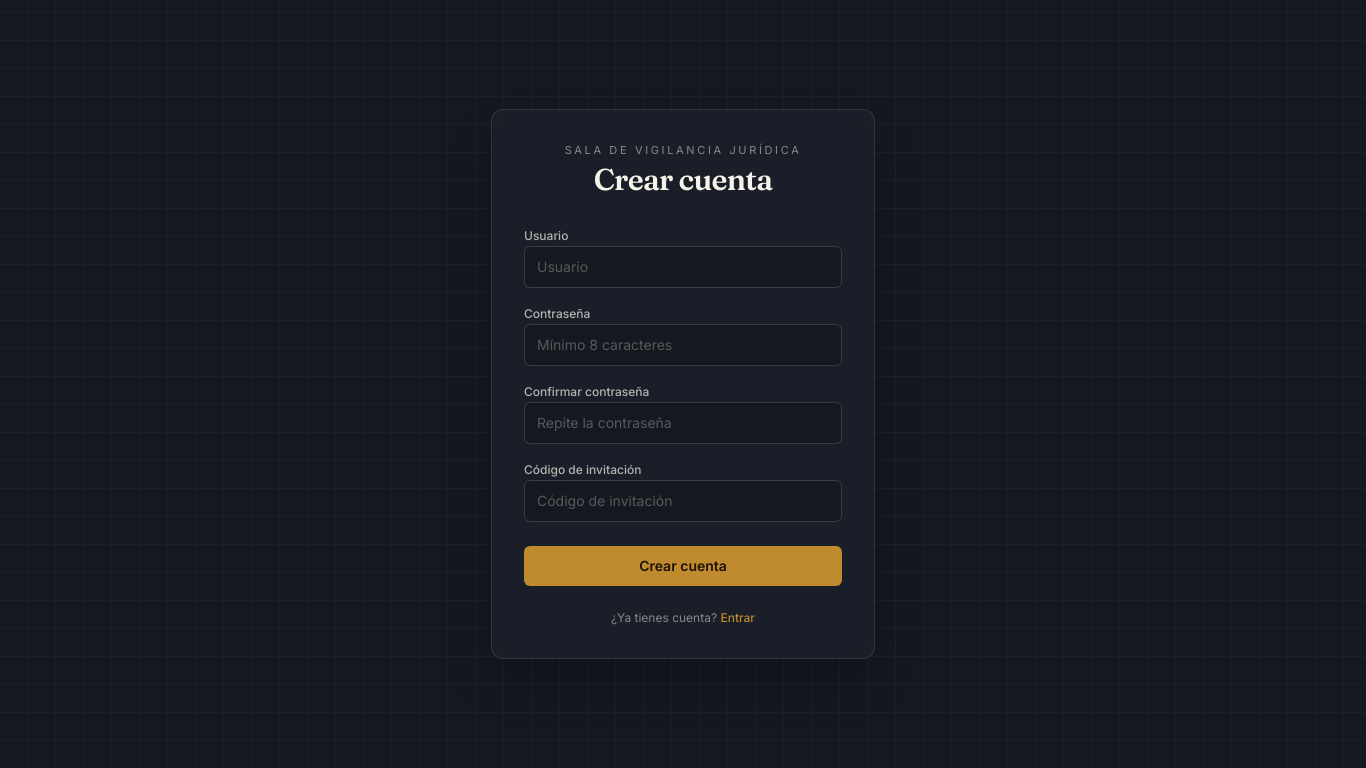
Test: RegisterPage › shows the backend's error on an invalid invite code
Type "ana" into the field with placeholder "Usuario".
click(683, 267); type("ana")  # box top-left (524, 246), bottom-right (842, 288)
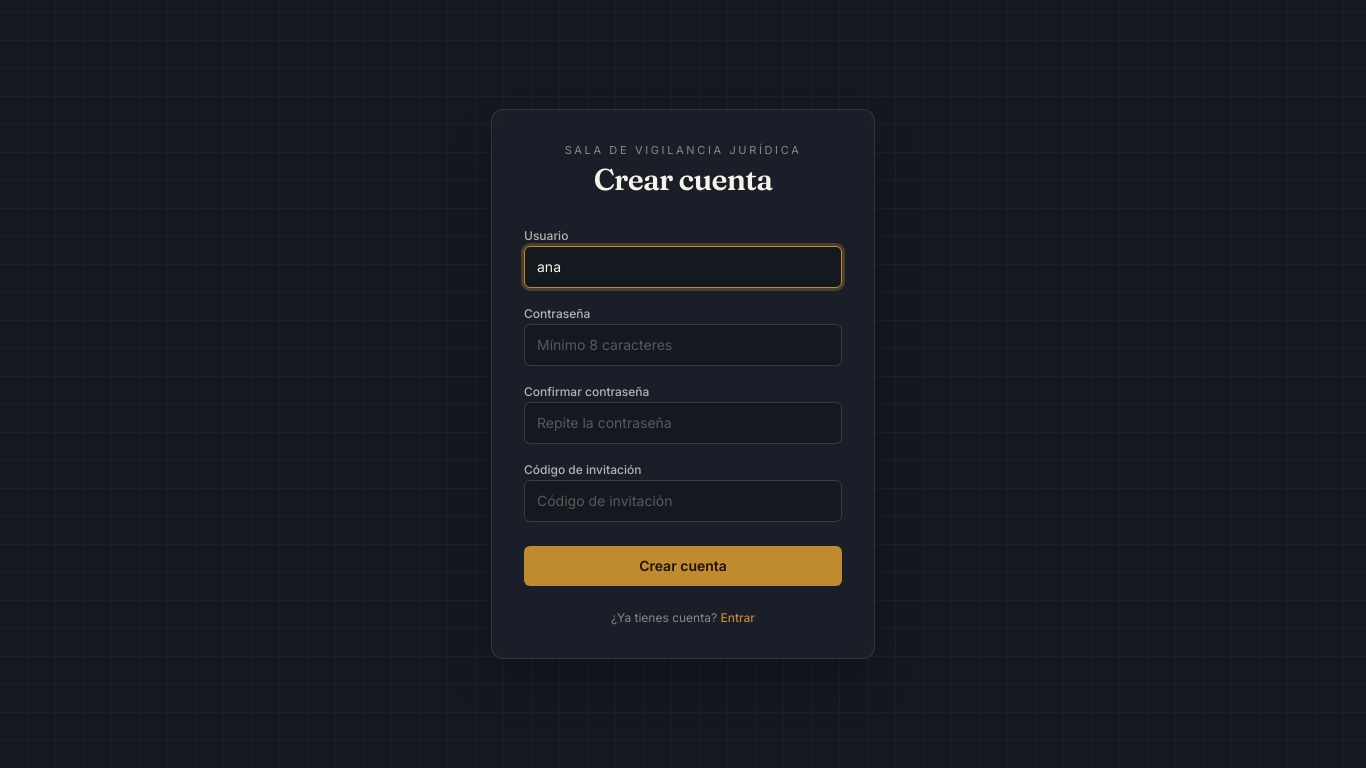
Type "Password123" into the password field with placeholder "Mínimo 8 caracteres".
click(683, 345); type("Password123")  # box top-left (524, 324), bottom-right (842, 366)
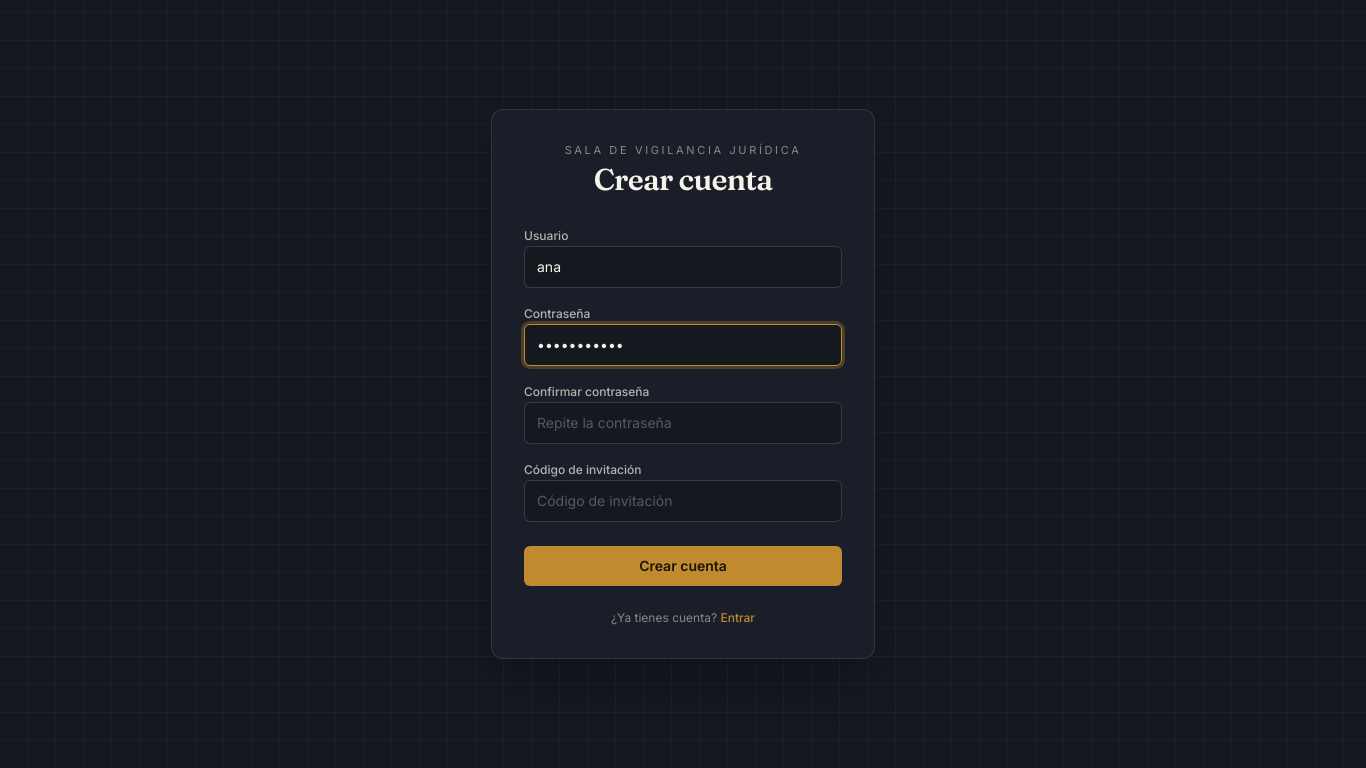
Type "Password123" into the password field with placeholder "Repite la contraseña".
click(683, 423); type("Password123")  # box top-left (524, 402), bottom-right (842, 444)
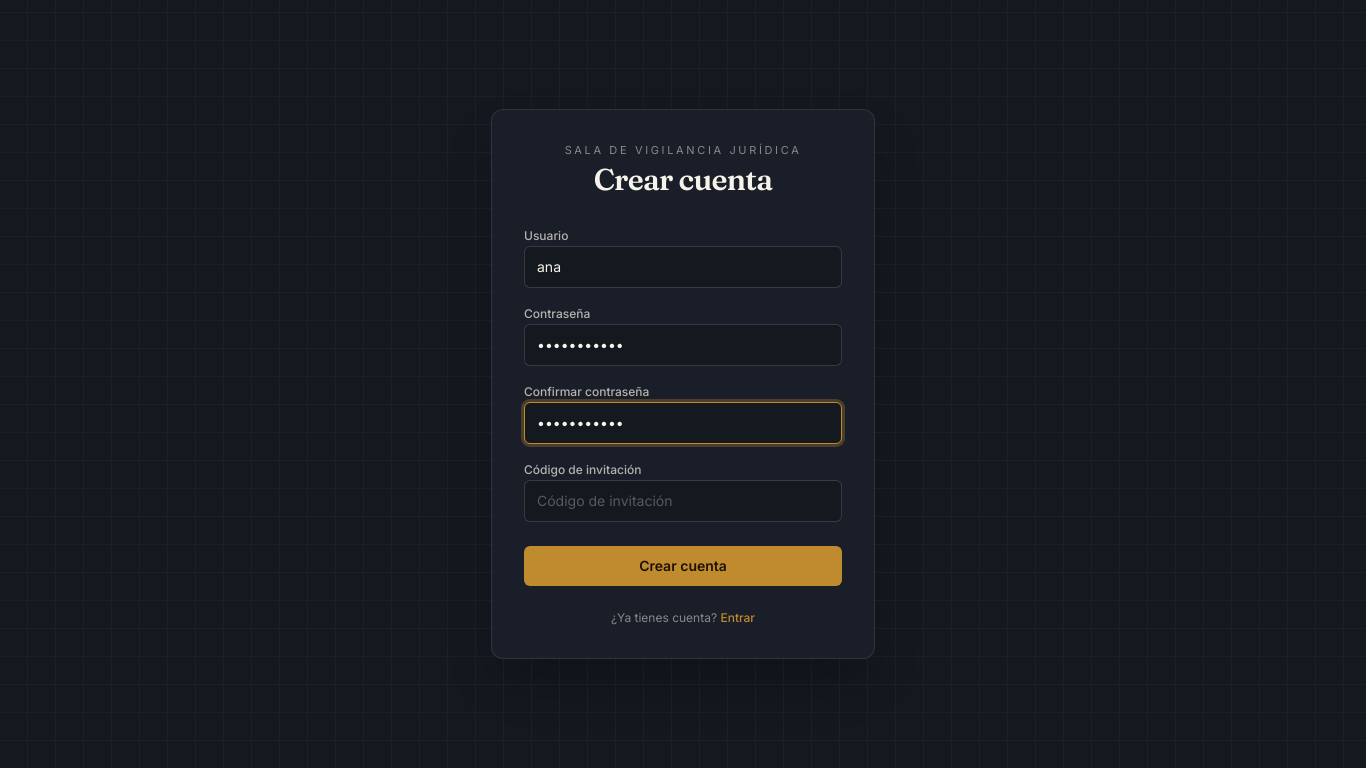
Type "wrong-code" into the field with placeholder "Código de invitación".
click(683, 501); type("wrong-code")  # box top-left (524, 480), bottom-right (842, 522)
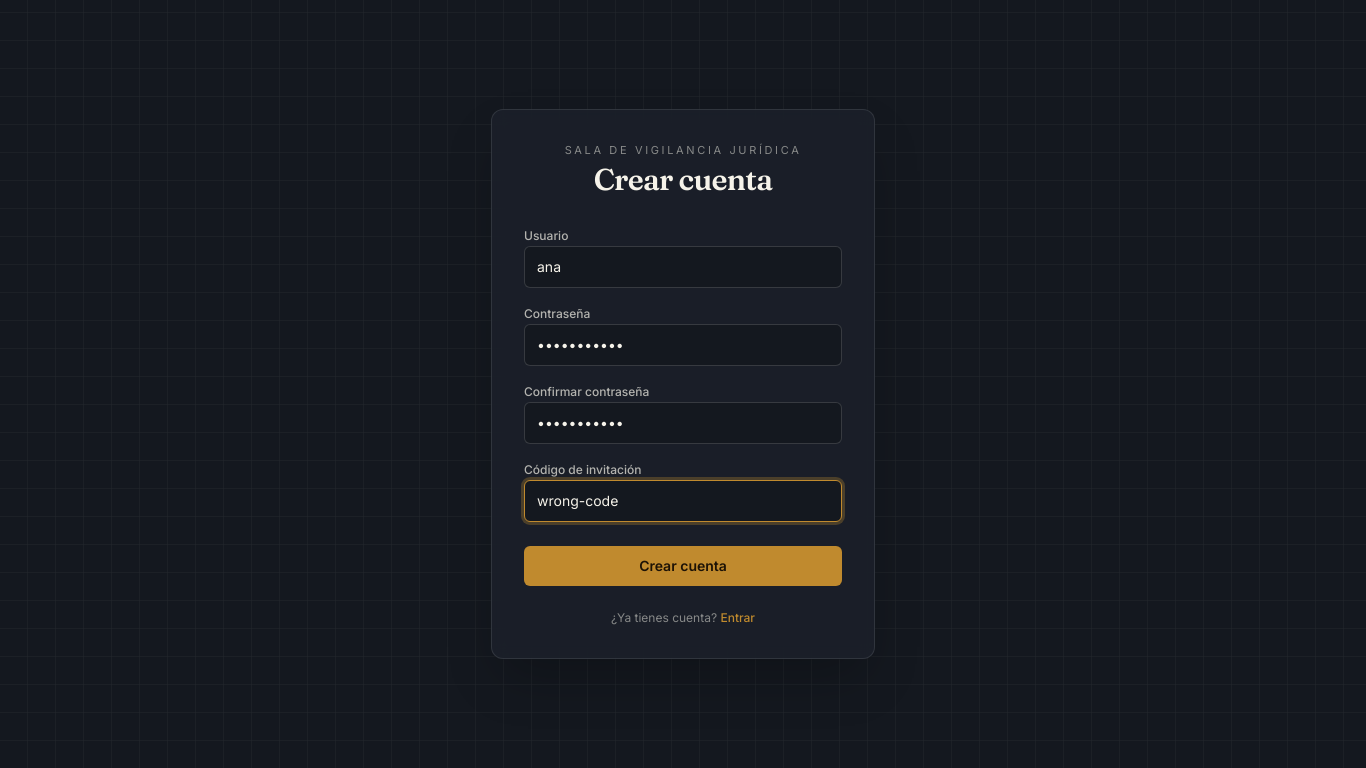
Click the button "Crear cuenta".
click(683, 566)  # box top-left (524, 546), bottom-right (842, 586)
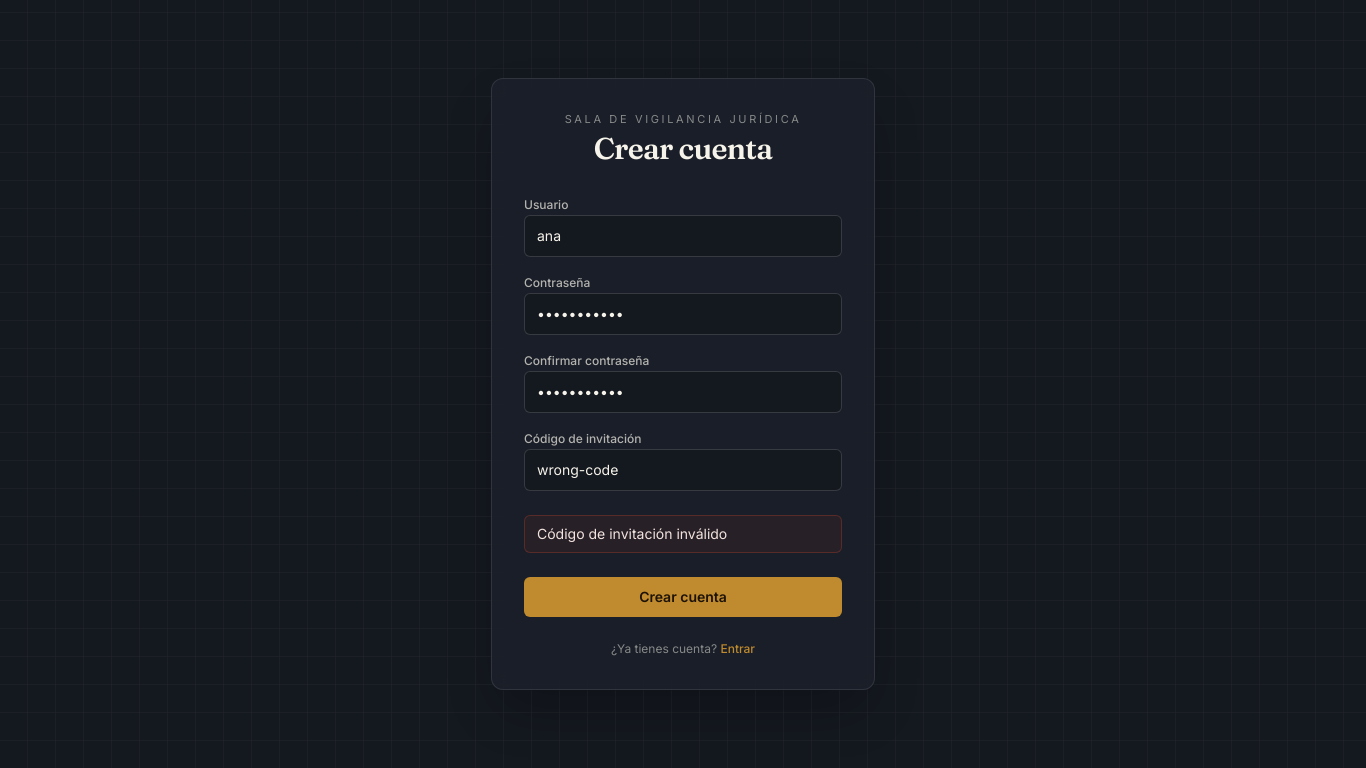
expect the text "Código de invitación inválido" is shown: met, box top-left (524, 515), bottom-right (842, 553)
